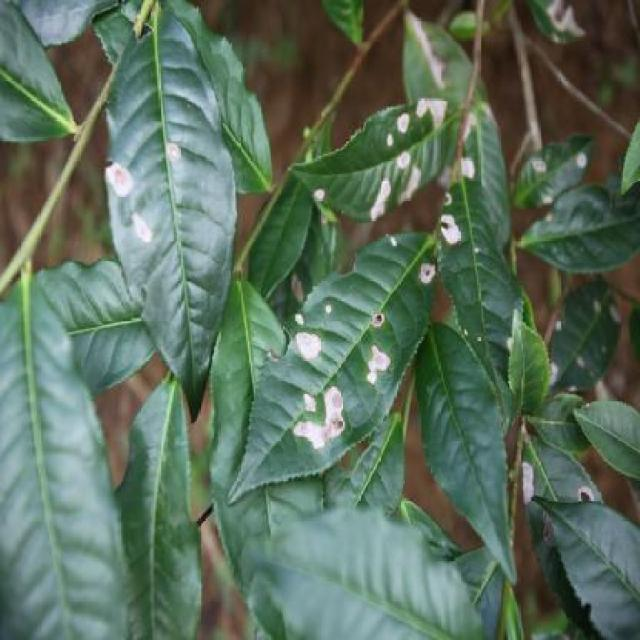Leaf rust of tea: (229, 246, 463, 537), (452, 175, 548, 434), (312, 109, 477, 248)
